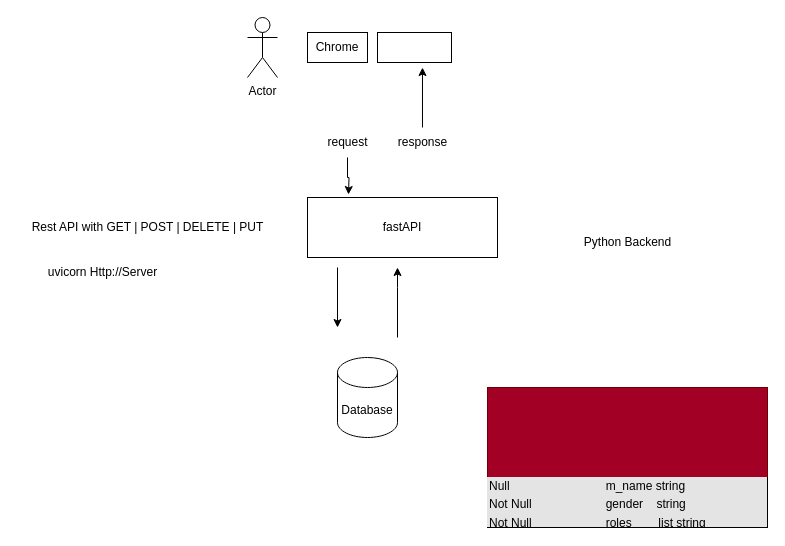
Some shapes in this 785 by 546 pixel diagram are drawn without their labels. The box of each missing label's shape, as (x1, y1, x2, y2) in pixels:
React: (376, 32, 452, 62)
User Not Null PK id string Not Null f_name stiring Not Null l_name string: (486, 386, 768, 478)
